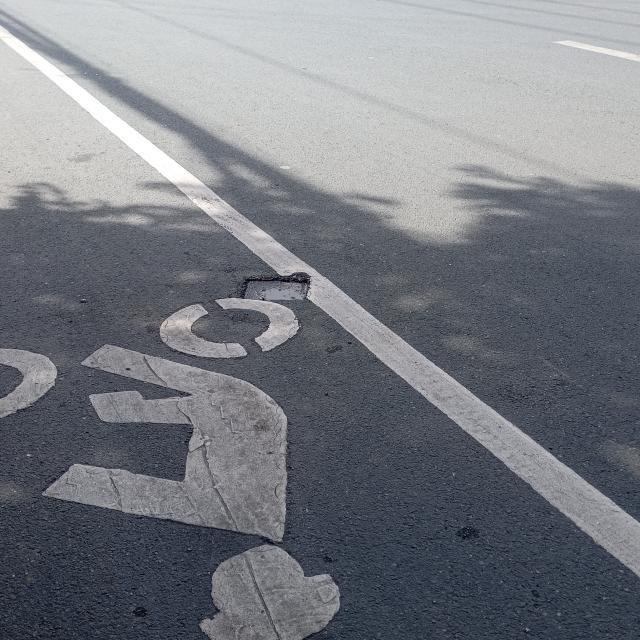pothole: (188, 254, 366, 324)
